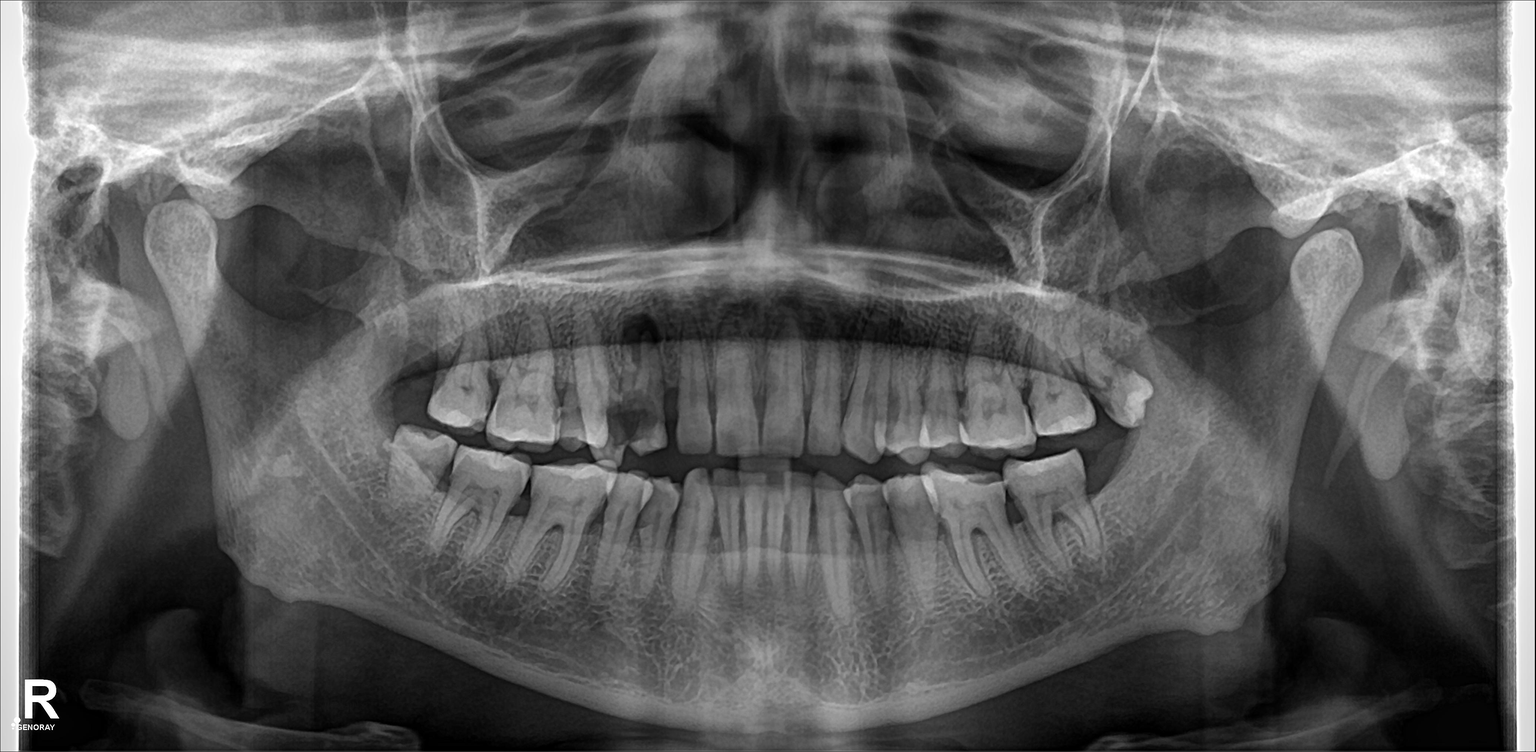Dental Caries: (596, 395, 657, 438)
Impacted Third Molar: (393, 428, 448, 512)
Missing Tooth: (395, 315, 435, 411), (1088, 441, 1134, 502)
